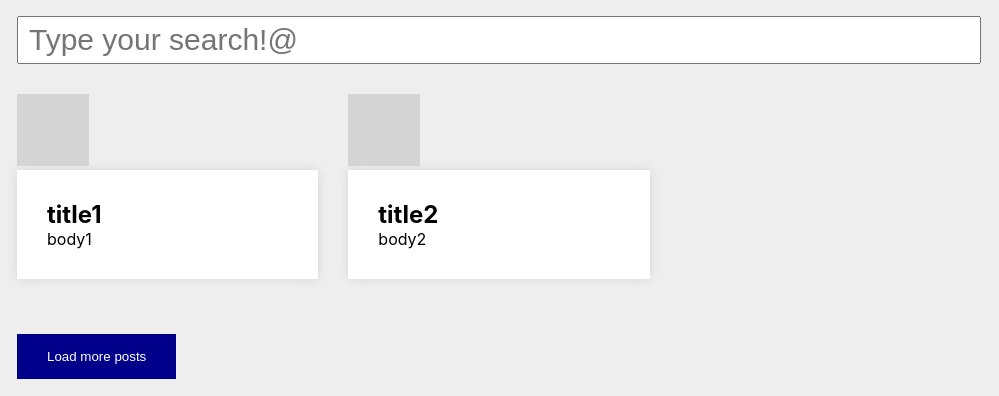
Scenario: <Home /> › should render no more posts text on the screen
Expected: the text "Não existem posts =(" is not shown
In the search field with placeholder "Type your search!@": (499, 40) [17,16,981,64], type "thing that couldnt exist"
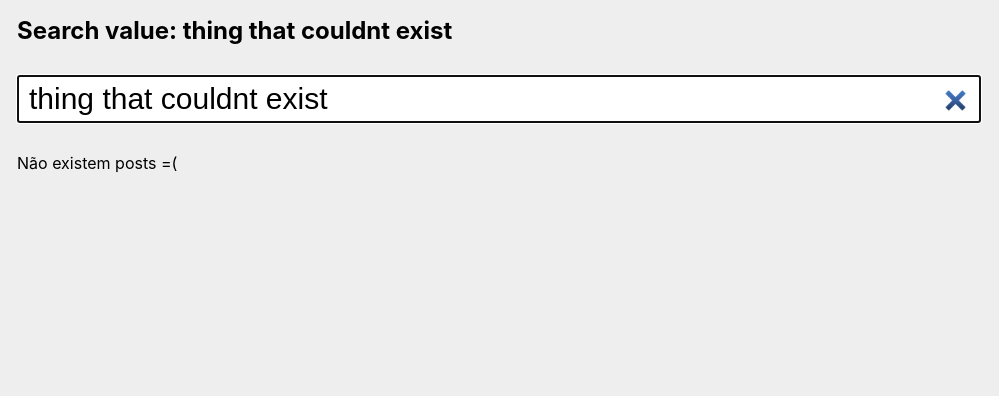
Expected: the text "Não existem posts =(" is shown, [17,153,177,173]
